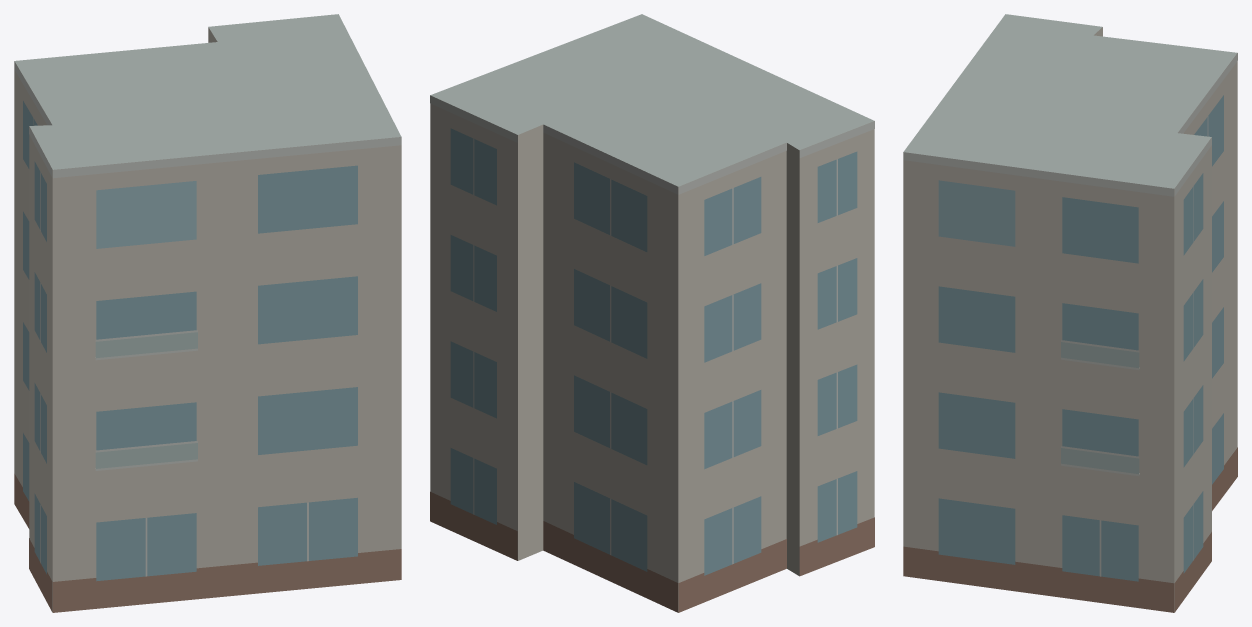
The model's file is survey-upis-32558281.glb.
3 renders of one model, left to right at view 1: azimuth 30°, elevation 25°; view 2: azimuth 150°, elevation 25°; view 3: azimuth 270°, elevation 25°, orthographic. The views are drawn at different scales.
Visible parts, largest first — view 1: survey-upis-32558281.tmp; view 2: survey-upis-32558281.tmp; view 3: survey-upis-32558281.tmp.
Part boxes in pixels (bbox=[...]): survey-upis-32558281.tmp: bbox=[14, 14, 401, 612]; survey-upis-32558281.tmp: bbox=[430, 14, 874, 612]; survey-upis-32558281.tmp: bbox=[903, 14, 1237, 612].
Size of the model in its own units: 11.41 by 12.9 by 9.23.
